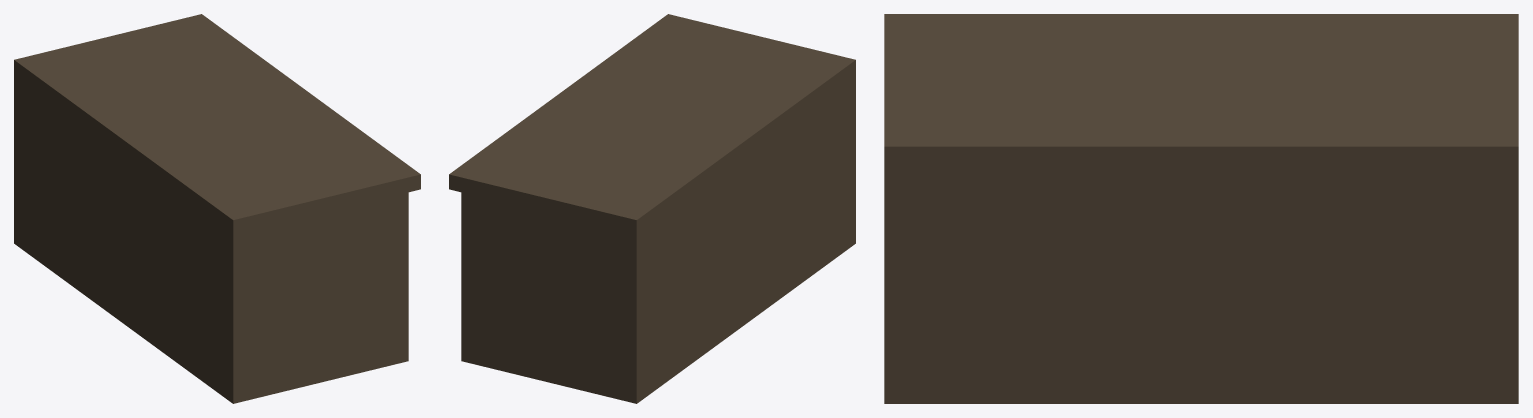
File: LaundryRoom_Counter.fbx
3 views of the same model, side by side, from view 1: azimuth 30°, elevation 25°; view 2: azimuth 150°, elevation 25°; view 3: azimuth 270°, elevation 25° (orthographic). The views are drawn at different scales.
Visible parts, largest first — view 1: polySurface59; view 2: polySurface59; view 3: polySurface59.
Part boxes in pixels (<box>): polySurface59: <box>14,14,420,403</box>; polySurface59: <box>449,14,855,403</box>; polySurface59: <box>884,14,1518,403</box>.
Size of the model in its own units: 1.22 by 1.14 by 2.47.
